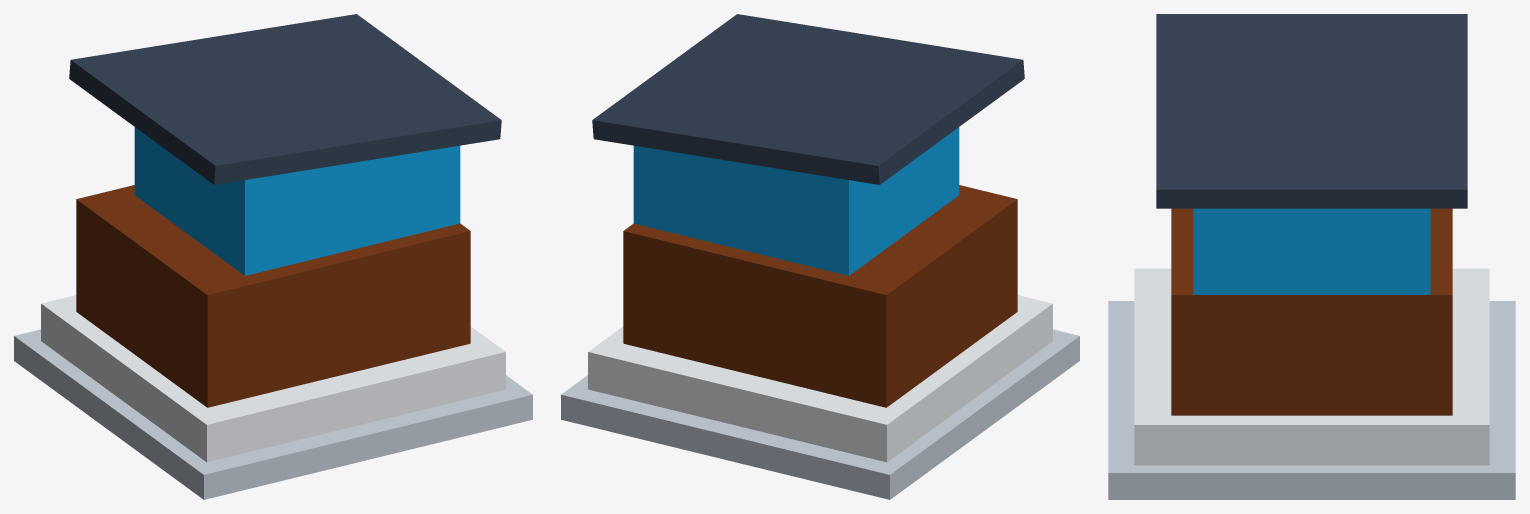
File: bld_c3_cell_31.glb
3 renders of one model, left to right at view 1: azimuth 30°, elevation 25°; view 2: azimuth 150°, elevation 25°; view 3: azimuth 270°, elevation 25°, orthographic. The views are drawn at different scales.
Visible parts, largest first — view 1: Bld_C3_Cell_31_BespokeLandmark; view 2: Bld_C3_Cell_31_BespokeLandmark; view 3: Bld_C3_Cell_31_BespokeLandmark.
Boxes of the visible parts, x1,y1,x2,y2 form: Bld_C3_Cell_31_BespokeLandmark: (14,14,532,499); Bld_C3_Cell_31_BespokeLandmark: (561,14,1079,499); Bld_C3_Cell_31_BespokeLandmark: (1108,14,1515,499).
Bounding box in the file's own units: 0.55 × 0.4941 × 0.55.
